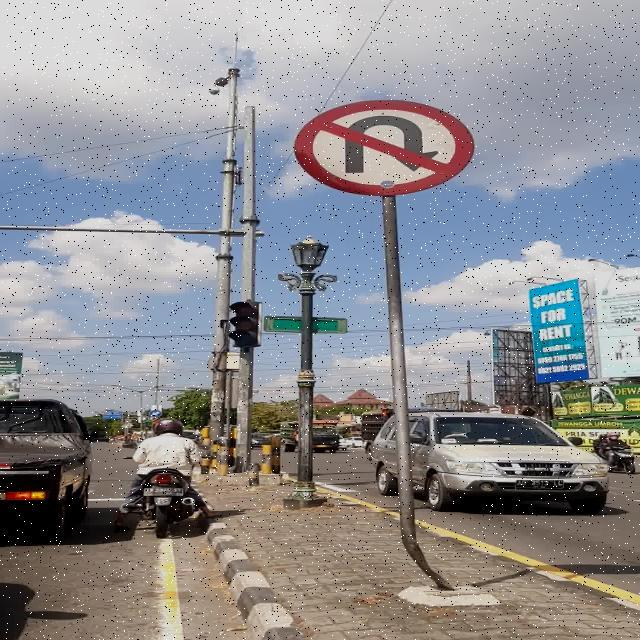Dilarang Putar Balik: (294, 100, 474, 196)
